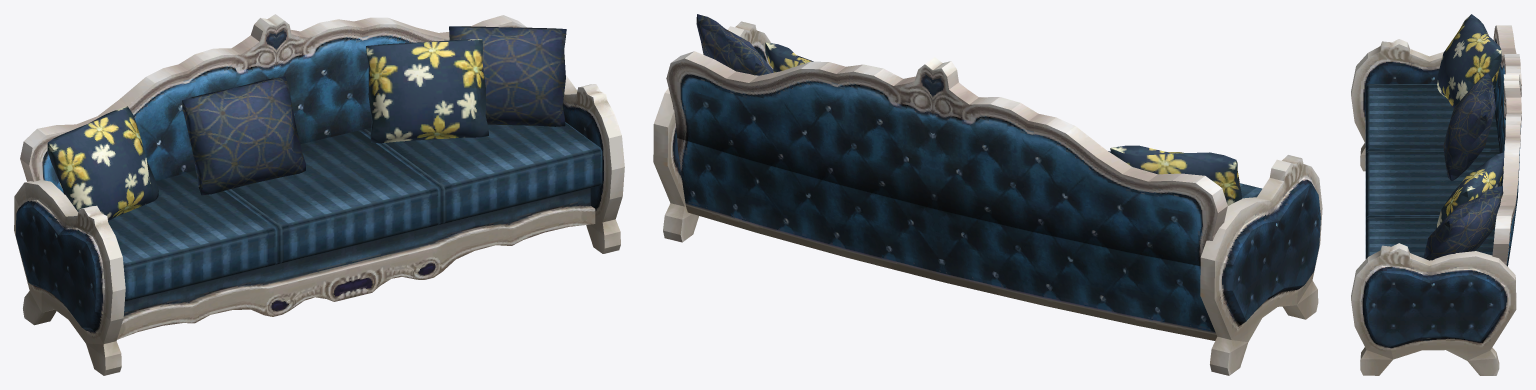
Rendered from furni_0201113_03_01.FBX.
The picture shows the model from 3 angles, left to right: view 1: azimuth 30°, elevation 25°; view 2: azimuth 150°, elevation 25°; view 3: azimuth 270°, elevation 25°; orthographic projection. The views are drawn at different scales.
Visible parts, largest first — view 1: furni_0201113_03; view 2: furni_0201113_03; view 3: furni_0201113_03.
Part boxes in pixels (x1=…): furni_0201113_03: x1=14, y1=14, x2=624, y2=375; furni_0201113_03: x1=653, y1=14, x2=1322, y2=375; furni_0201113_03: x1=1351, y1=14, x2=1521, y2=375.
Size of the model in its own units: 239 by 99.45 by 79.86.
Materials: 2 (2 with a texture image).
